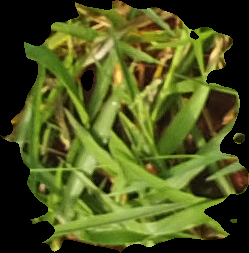grass: (1, 1, 247, 252)
